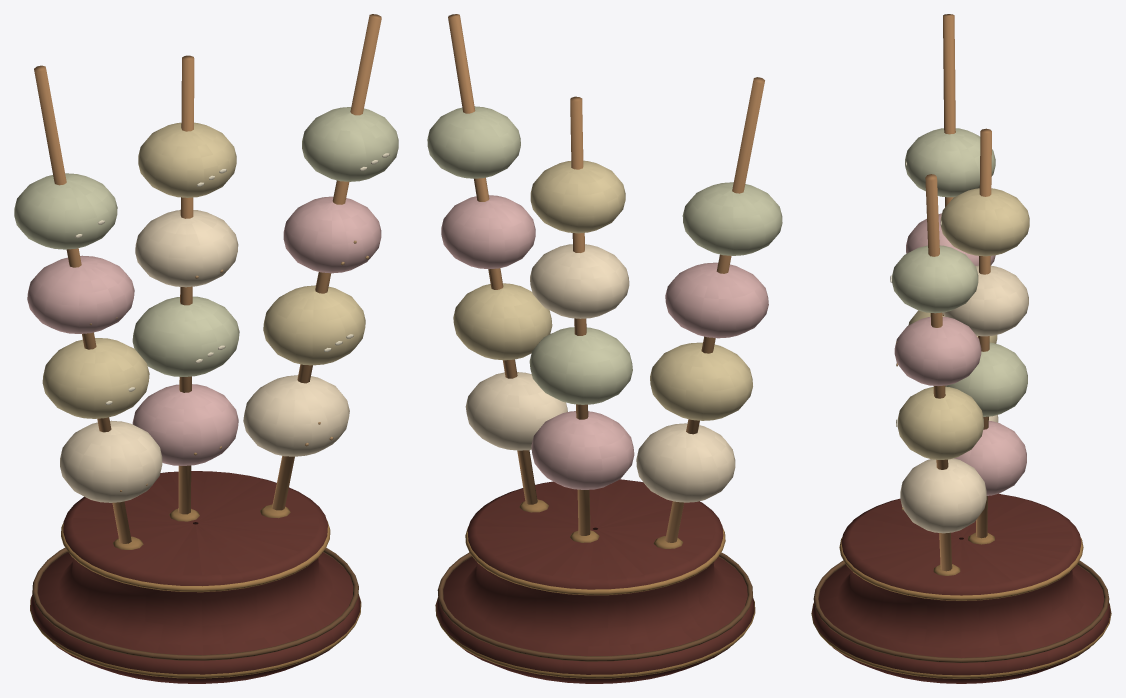
Rendered from gyeongdan-skewer.glb.
3 views of the same model, side by side, from view 1: azimuth 30°, elevation 25°; view 2: azimuth 150°, elevation 25°; view 3: azimuth 270°, elevation 25° (orthographic). The views are drawn at different scales.
Visible parts, largest first — view 1: Shared_oxblood_pedestal, Right_soft_rice_cake_1, Left_soft_rice_cake_2, Middle_soft_rice_cake_2, Left_soft_rice_cake_1, Left_soft_rice_cake_3, Right_soft_rice_cake_2, Middle_soft_rice_cake_1, Middle_soft_rice_cake_3, Left_soft_rice_cake_4, Right_soft_rice_cake_3, Middle_soft_rice_cake_4 (+7 smaller); view 2: Shared_oxblood_pedestal, Middle_soft_rice_cake_1, Left_soft_rice_cake_2, Middle_soft_rice_cake_2, Left_soft_rice_cake_1, Left_soft_rice_cake_3, Right_soft_rice_cake_2, Middle_soft_rice_cake_3, Left_soft_rice_cake_4, Right_soft_rice_cake_3, Middle_soft_rice_cake_4, Right_soft_rice_cake_1 (+7 smaller); view 3: Shared_oxblood_pedestal, Right_soft_rice_cake_1, Right_soft_rice_cake_2, Middle_soft_rice_cake_4, Right_soft_rice_cake_3, Right_soft_rice_cake_4, Left_soft_rice_cake_4, Middle_soft_rice_cake_3, Middle_soft_rice_cake_2, Middle_soft_rice_cake_1, Shared_recessed_dark_band, Right_warm_wood_skewer (+5 smaller).
Part boxes in pixels (<box>): Shared_oxblood_pedestal: <box>30,471,360,683</box>; Right_soft_rice_cake_1: <box>243,375,349,456</box>; Left_soft_rice_cake_2: <box>42,338,149,418</box>; Middle_soft_rice_cake_2: <box>132,296,239,376</box>; Left_soft_rice_cake_1: <box>60,420,162,502</box>; Left_soft_rice_cake_3: <box>27,255,134,333</box>; Right_soft_rice_cake_2: <box>263,285,365,365</box>; Middle_soft_rice_cake_1: <box>132,384,238,465</box>; Middle_soft_rice_cake_3: <box>135,210,238,287</box>; Left_soft_rice_cake_4: <box>14,173,117,249</box>; Right_soft_rice_cake_3: <box>283,196,381,273</box>; Middle_soft_rice_cake_4: <box>138,122,236,197</box>; Shared_oxblood_pedestal: <box>436,479,754,683</box>; Middle_soft_rice_cake_1: <box>531,411,634,489</box>; Left_soft_rice_cake_2: <box>650,342,752,420</box>; Middle_soft_rice_cake_2: <box>529,327,632,404</box>; Left_soft_rice_cake_1: <box>636,423,735,502</box>; Left_soft_rice_cake_3: <box>665,262,768,338</box>; Right_soft_rice_cake_2: <box>453,283,552,360</box>; Middle_soft_rice_cake_3: <box>530,244,629,318</box>; Left_soft_rice_cake_4: <box>682,182,782,255</box>; Right_soft_rice_cake_3: <box>441,195,535,269</box>; Middle_soft_rice_cake_4: <box>530,160,625,233</box>; Right_soft_rice_cake_1: <box>465,372,567,450</box>; Shared_oxblood_pedestal: <box>812,493,1110,683</box>; Right_soft_rice_cake_1: <box>900,458,986,533</box>; Right_soft_rice_cake_2: <box>897,386,983,459</box>; Middle_soft_rice_cake_4: <box>940,188,1029,256</box>; Right_soft_rice_cake_3: <box>894,316,981,385</box>; Right_soft_rice_cake_4: <box>892,245,978,313</box>; Left_soft_rice_cake_4: <box>905,128,995,197</box>; Middle_soft_rice_cake_3: <box>942,265,1028,336</box>; Middle_soft_rice_cake_2: <box>945,342,1027,416</box>; Middle_soft_rice_cake_1: <box>954,421,1026,495</box>; Shared_recessed_dark_band: <box>813,560,1109,662</box>; Right_warm_wood_skewer: <box>925,174,952,571</box>.
Bounding box in the file's own units: 1.04 × 1.65 × 0.824.
